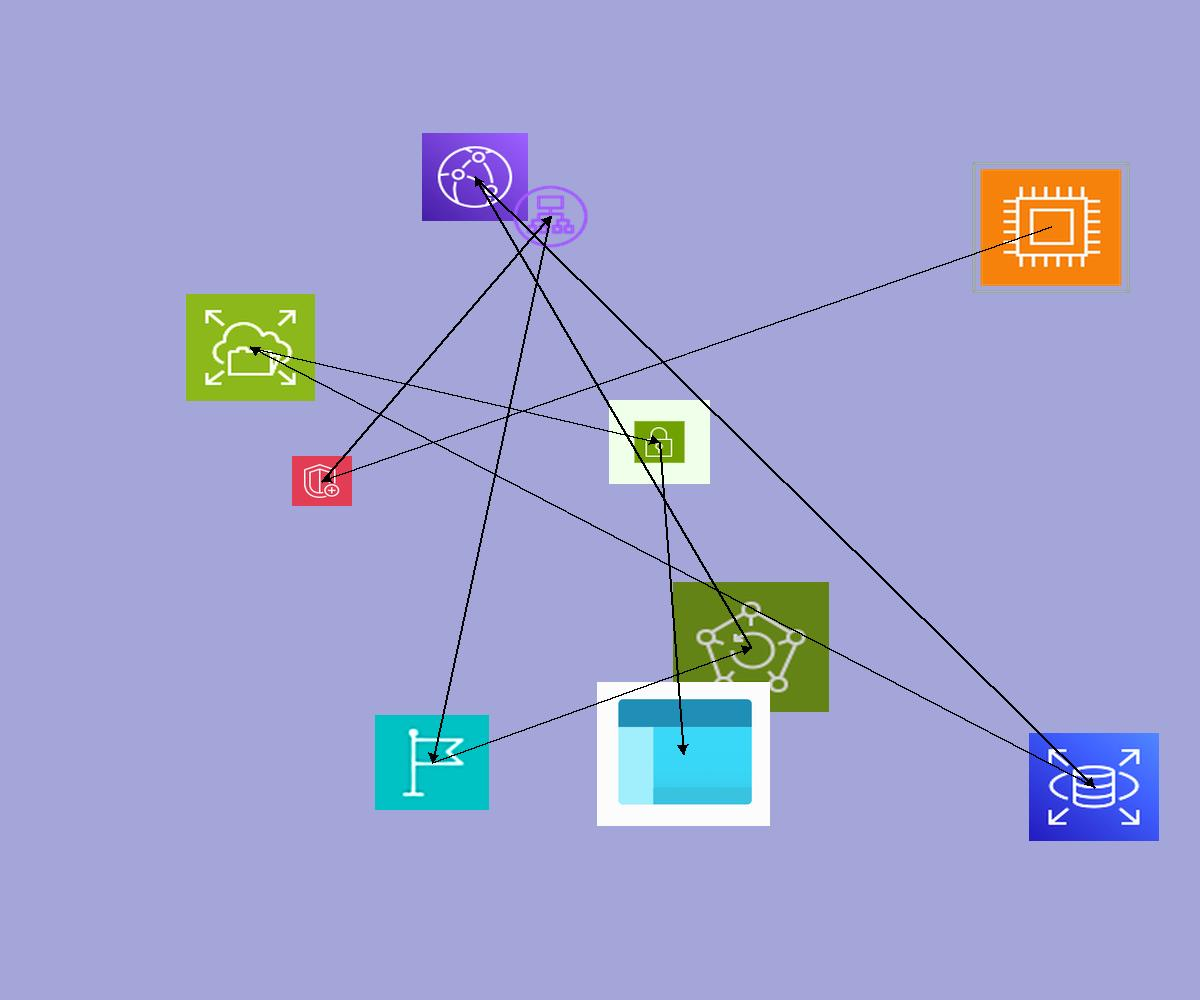AWS-Backup: (673, 582, 829, 712)
AWS-Category_Compute: (972, 162, 1130, 293)
AWS-CloudFront: (422, 133, 528, 221)
AWS-EFS: (186, 294, 315, 401)
AWS-Public-subnet: (609, 400, 710, 484)
AWS-RDS: (1029, 733, 1159, 841)
AWS-Region: (375, 715, 489, 810)
AWS-Res_Elastic-Load-Balancing_Application-Load-Balancer: (510, 183, 591, 250)
AWS-Shield: (292, 456, 352, 506)
Azure_management-portal: (597, 682, 770, 826)
